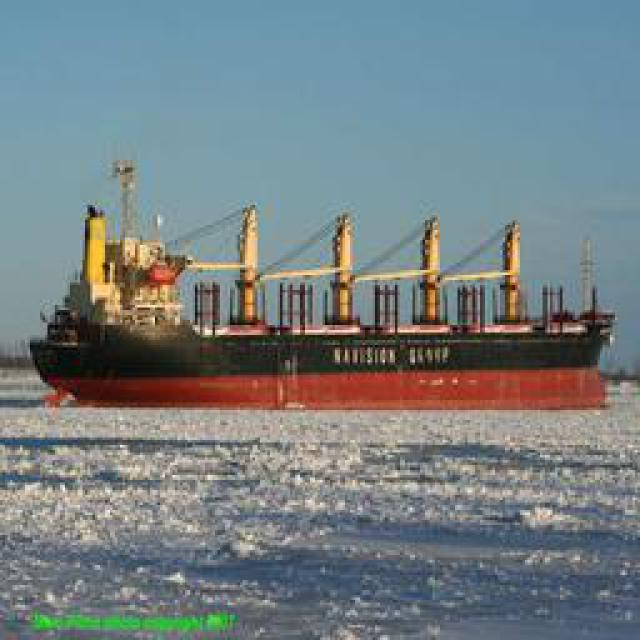Ship: (29, 166, 619, 409)
